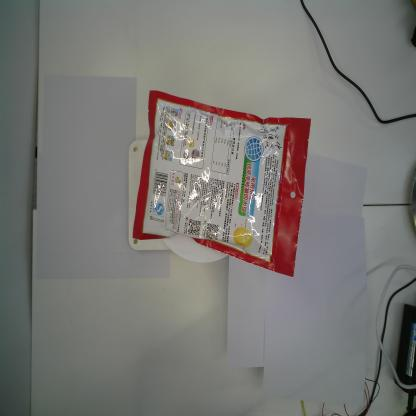Instant Drink: (131, 86, 313, 279)
